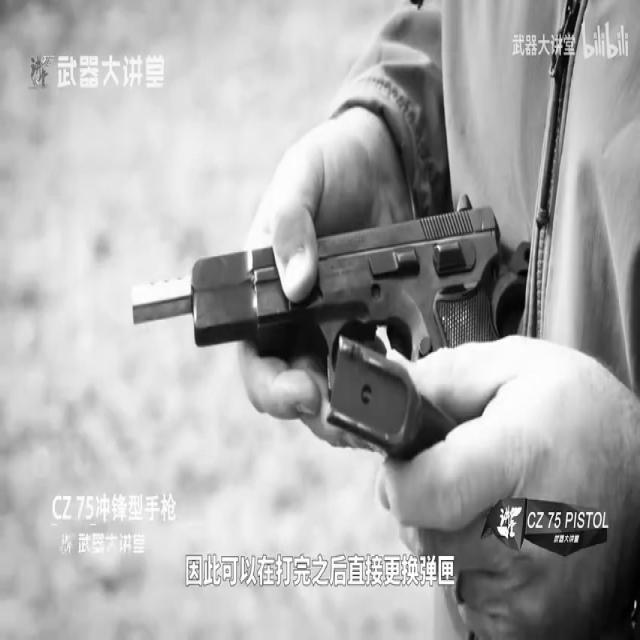Hand-Gun: (120, 224, 502, 452)
